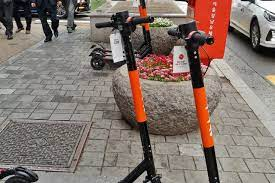kick_handler: (168, 22, 214, 46), (94, 11, 153, 29)
kick_wheel: (90, 57, 104, 69)
